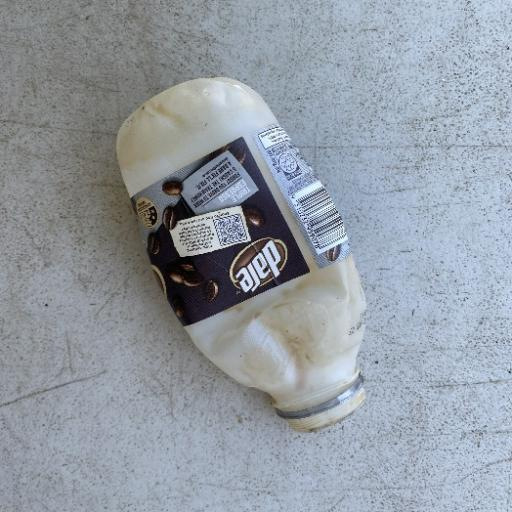Plastic: (112, 74, 370, 434)
